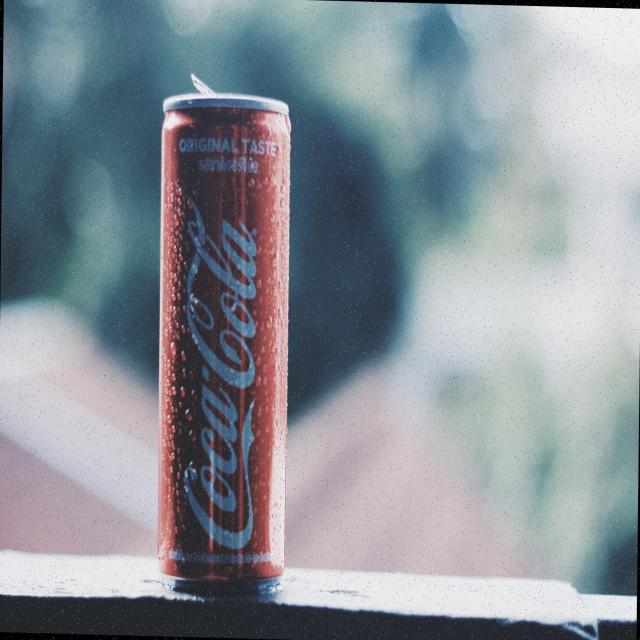coca-cola: (176, 193, 269, 551)
